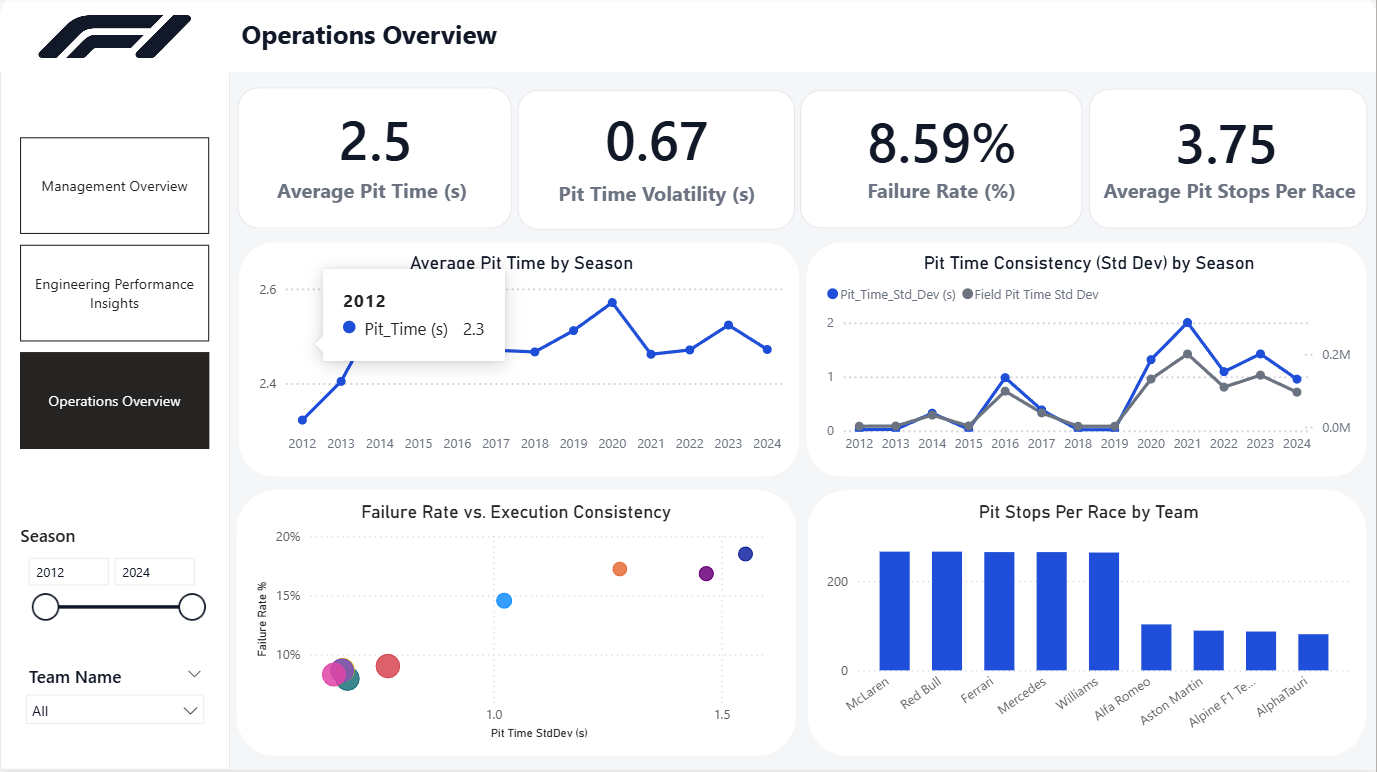

This screenshot's page, from the dashboard's own definition file:
{"tool":"powerbi","page":{"name":"Operations Overview","canvas":[1280,720],"ordinal":2},"visuals":[{"type":"shape","box":[0,49.9,214.3,669.8],"z":0},{"type":"shape","box":[221.3,85.5,255.3,131.6],"z":0,"group":"g1"},{"type":"shape","box":[1012.6,87.1,259.2,130.5],"z":0,"group":"g3"},{"type":"shape","box":[481.9,87.6,258.2,130.3],"z":0,"group":"g2"},{"type":"shape","box":[743.8,88.2,262.8,129.1],"z":0,"group":"g4"},{"type":"shape","box":[0,0,1280.3,71.4],"z":1000},{"type":"card","title":"T","fields":{"Values":["public vw_operations_kpis.AVG_Pit_Stop(s)"]},"box":[222.4,82.6,255.3,98.4],"z":1000,"group":"g1"},{"type":"card","title":"T","fields":{"Values":["public vw_operations_kpis.Pit_Time_Std_Dev (s)"]},"box":[483.1,82.6,257.6,97.8],"z":1000,"group":"g2"},{"type":"card","title":"T","fields":{"Values":["public vw_operations_kpis.Failure Rate %"]},"box":[744.9,85.4,262.8,96.6],"z":1000,"group":"g4"},{"type":"card","title":"T","fields":{"Values":["Avg(public vw_operations_kpis.pit_stop_count)"]},"box":[1011.3,85.4,259.1,97.8],"z":1000,"group":"g3"},{"type":"textbox","box":[219.7,13.5,845,47.2],"z":2000},{"type":"textbox","box":[233.5,162.3,227.2,34.6],"z":2000,"group":"g1"},{"type":"textbox","box":[751.1,163.2,249.3,37.8],"z":2000,"group":"g4"},{"type":"textbox","box":[1019.2,163.2,247.9,42],"z":2000,"group":"g3"},{"type":"textbox","box":[495.3,165.8,231.5,38.4],"z":2000,"group":"g2"},{"type":"shape","box":[221.9,228.7,521.5,218.2],"z":3000,"group":"g5"},{"type":"shape","box":[750.2,228.7,521.5,218.2],"z":3000,"group":"g6"},{"type":"shape","box":[219.9,459.4,521.1,247.9],"z":3000},{"type":"group","id":"g1","title":"Group 1","box":[221.3,82.6,256.3,134.5],"z":4000},{"type":"group","id":"g2","title":"Group 1","box":[481.9,82.6,257.7,134.5],"z":5000},{"type":"group","id":"g3","title":"Group 1","box":[1011.3,85.4,260.5,132.2],"z":6000},{"type":"group","id":"g4","title":"Group 1","box":[743.8,85.4,263.9,131.9],"z":7000},{"type":"group","id":"g5","title":"Group 2","box":[221.9,228.7,521.5,218.3],"z":8000},{"type":"group","id":"g6","title":"Group 2","box":[750.2,228.7,521.5,218.3],"z":9000},{"type":"lineChart","title":"Average Pit Time by Season","fields":{"Category":["public dim_race.season"],"Y":["public vw_operations_kpis.Pit_Time (s)"]},"box":[235.6,238.3,498.3,196.2],"z":9000,"group":"g5"},{"type":"lineChart","title":"Pit Time Consistency (Std Dev) by Season","fields":{"Category":["public dim_race.season"],"Y":["public vw_operations_kpis.Pit_Time_Std_Dev (s)"],"Y2":["public vw_decision_tradeoffs.Field Pit Time Std Dev"]},"box":[763.9,238.3,498.3,196.2],"z":9000,"group":"g6"},{"type":"slicer","title":"Season","fields":{"Values":["public dim_race.season"]},"box":[13.5,490.5,186,95.7],"z":10000},{"type":"slicer","fields":{"Values":["public dim_constructor.team_name"]},"box":[13.5,615.9,186,68.7],"z":11000},{"type":"image","box":[27,5.4,160.4,60.6],"z":12000},{"type":"scatterChart","title":"Failure Rate vs. Execution Consistency","fields":{"X":["public vw_operations_kpis.Pit_Time_Std_Dev (s)"],"Series":["public dim_constructor.team_name"],"Category":["public dim_constructor.is_core_team"],"Y":["public vw_operations_kpis.Failure Rate %"],"Size":["Sum(public vw_operations_kpis.pit_stop_count)"]},"box":[233.7,469.8,493,226.7],"z":13000},{"type":"shape","box":[750.8,459.4,519.7,247.9],"z":14000},{"type":"clusteredColumnChart","title":"Pit Stops Per Race by Team","fields":{"Category":["public dim_constructor.team_name"],"Y":["CountNonNull(public vw_operations_kpis.pit_stop_count)"]},"box":[764,469.8,497.7,226.7],"z":15000},{"type":"pageNavigator","box":[18.6,131.4,176.7,290.7],"z":16000}]}

Visuals, with their boxes on the page's 1280x720 design canvas (x1, y1, x2, y2). These are canvas units, not pixel positions in the 1377x772 screenshot, which may show the page scaled, cropped or inside an application window:
shape: box(0, 50, 214, 720)
shape: box(221, 86, 477, 217)
shape: box(1013, 87, 1272, 218)
shape: box(482, 88, 740, 218)
shape: box(744, 88, 1007, 217)
shape: box(0, 0, 1280, 71)
"T" card: box(222, 83, 478, 181)
"T" card: box(483, 83, 741, 180)
"T" card: box(745, 85, 1008, 182)
"T" card: box(1011, 85, 1270, 183)
textbox: box(220, 14, 1065, 61)
textbox: box(234, 162, 461, 197)
textbox: box(751, 163, 1000, 201)
textbox: box(1019, 163, 1267, 205)
textbox: box(495, 166, 727, 204)
shape: box(222, 229, 743, 447)
shape: box(750, 229, 1272, 447)
shape: box(220, 459, 741, 707)
"Group 1" group: box(221, 83, 478, 217)
"Group 1" group: box(482, 83, 740, 217)
"Group 1" group: box(1011, 85, 1272, 218)
"Group 1" group: box(744, 85, 1008, 217)
"Group 2" group: box(222, 229, 743, 447)
"Group 2" group: box(750, 229, 1272, 447)
"Average Pit Time by Season" lineChart: box(236, 238, 734, 434)
"Pit Time Consistency (Std Dev) by Season" lineChart: box(764, 238, 1262, 434)
"Season" slicer: box(14, 490, 200, 586)
slicer - public dim_constructor.team_name: box(14, 616, 200, 685)
image: box(27, 5, 187, 66)
"Failure Rate vs. Execution Consistency" scatterChart: box(234, 470, 727, 696)
shape: box(751, 459, 1270, 707)
"Pit Stops Per Race by Team" clusteredColumnChart: box(764, 470, 1262, 696)
pageNavigator: box(19, 131, 195, 422)
